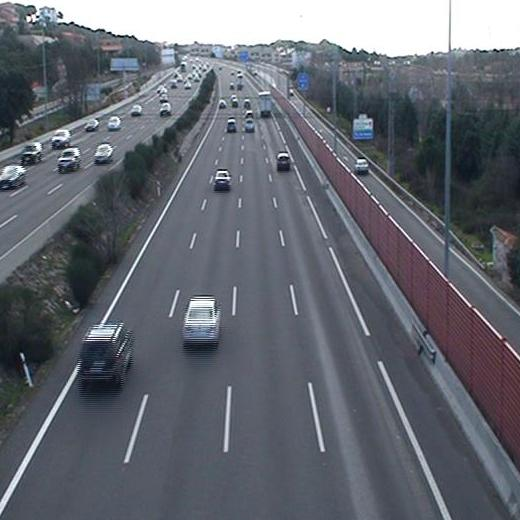car: (76, 320, 137, 392), (179, 292, 226, 355), (211, 166, 233, 192), (272, 148, 294, 174), (244, 117, 256, 135), (226, 119, 239, 135)
truck: (257, 89, 275, 121)
